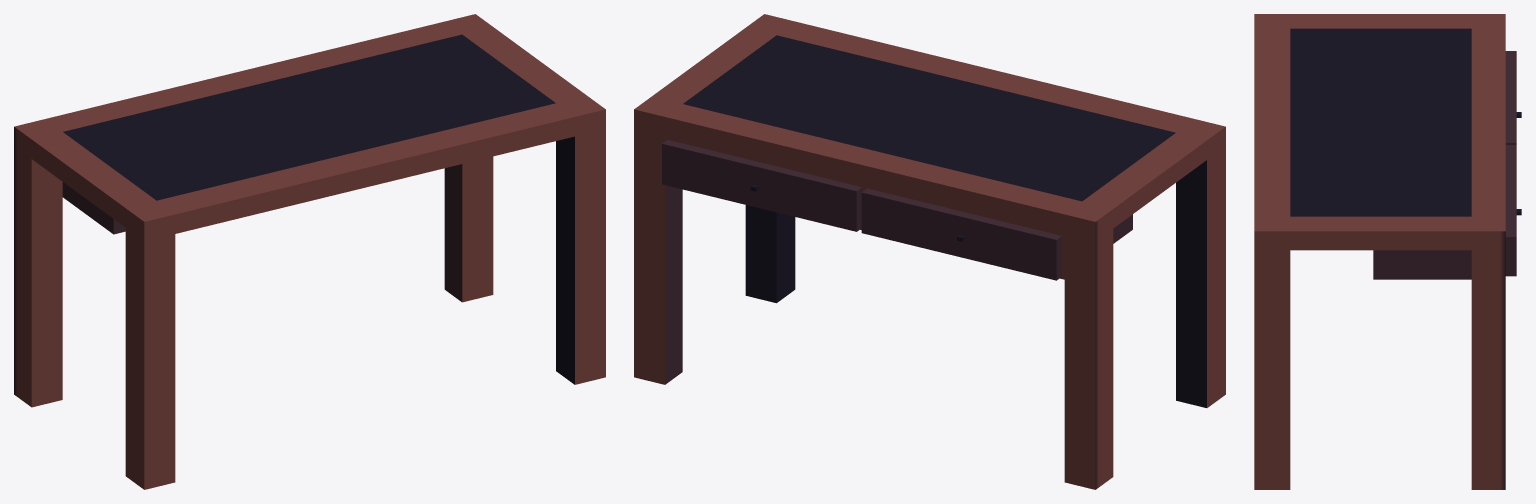
Rendered from table.glb.
3 views of the same model, side by side, from view 1: azimuth 30°, elevation 25°; view 2: azimuth 150°, elevation 25°; view 3: azimuth 270°, elevation 25° (orthographic). The views are drawn at different scales.
Visible parts, largest first — view 1: Cube; view 2: Cube; view 3: Cube.
Part boxes in pixels (x1,y1,x2,y2): Cube: (14,14,605,489); Cube: (634,14,1225,489); Cube: (1254,14,1521,489).
Bounding box in the file's own units: 7.16 × 3.97 × 3.73.
Materials: 1 (1 with a texture image).
